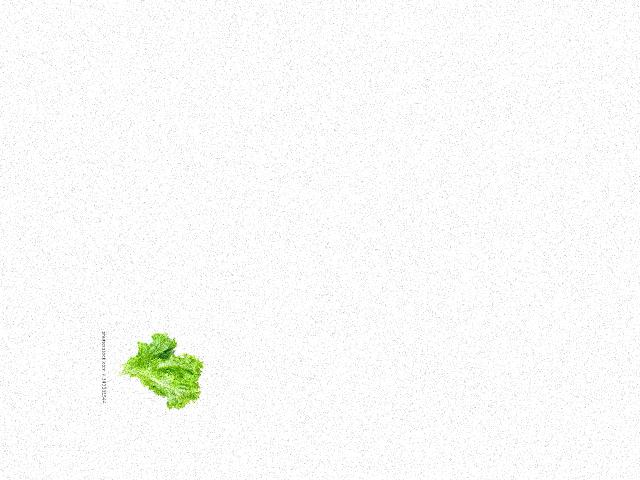lettuce: (112, 330, 205, 408)
